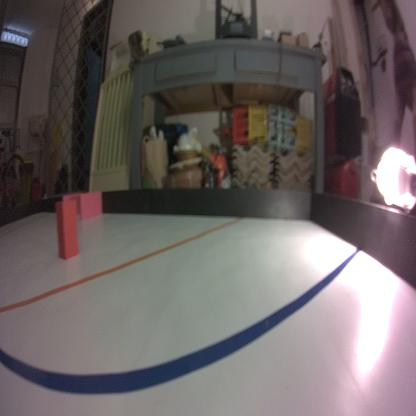magenta: (78, 190, 103, 219)
red: (55, 198, 78, 258)
